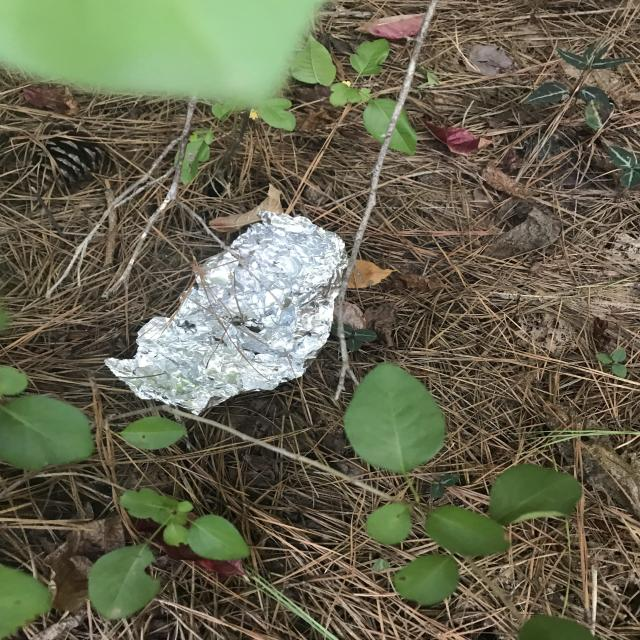litter: (106, 216, 347, 413)
